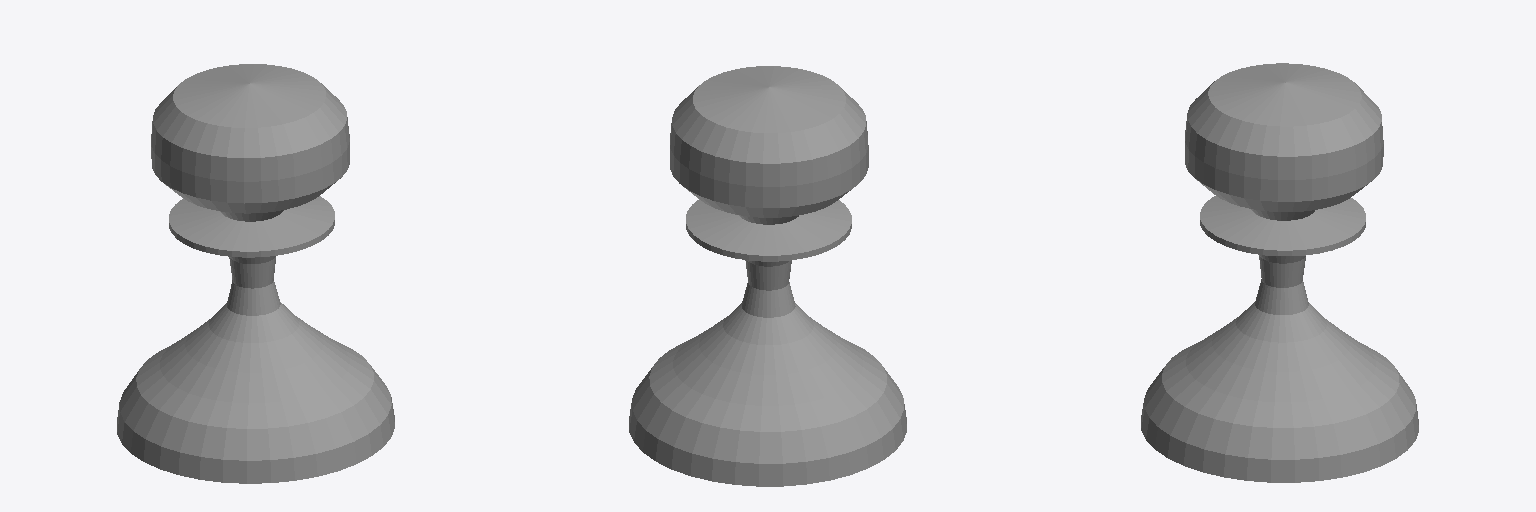
Rendered from whitepawn.obj.
3 views of the same model, side by side, from view 1: azimuth 30°, elevation 25°; view 2: azimuth 150°, elevation 25°; view 3: azimuth 270°, elevation 25° (orthographic).
Parts seen in each view (by area): view 1: Pawn_Cube; view 2: Pawn_Cube; view 3: Pawn_Cube.
Boxes of the visible parts, x1,y1,x2,y2 form: Pawn_Cube: [117, 64, 394, 483]; Pawn_Cube: [629, 66, 906, 486]; Pawn_Cube: [1141, 63, 1418, 482].
Bounding box in the file's own units: 3.59 × 4.88 × 3.59.